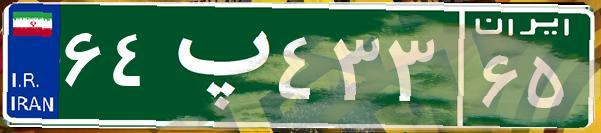3: (385, 28, 445, 110), (330, 28, 385, 110)
4: (273, 28, 330, 110), (110, 28, 158, 105)
5: (525, 38, 570, 115)
6: (57, 26, 110, 107), (475, 38, 525, 113)
پ: (158, 15, 273, 115)
